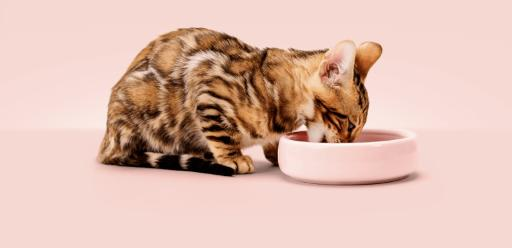cat_eating: (99, 28, 419, 184)
